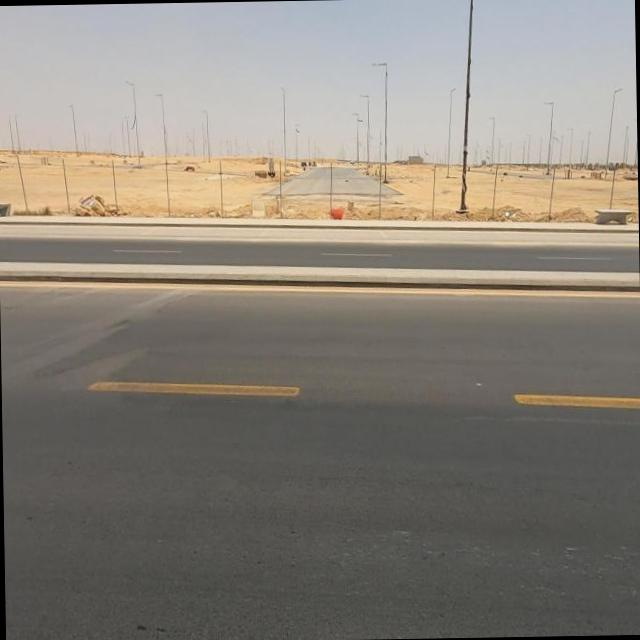debris: (481, 176, 542, 248), (303, 173, 366, 242), (65, 164, 122, 228)
